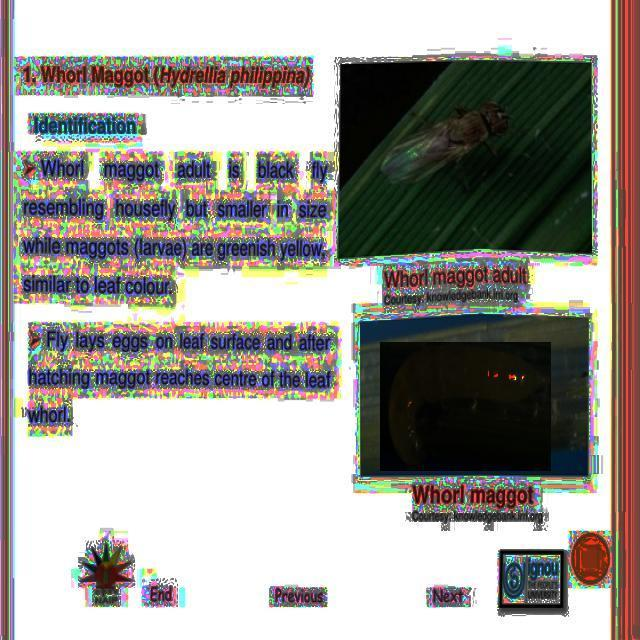whorl-maggot: (380, 342, 551, 471)
